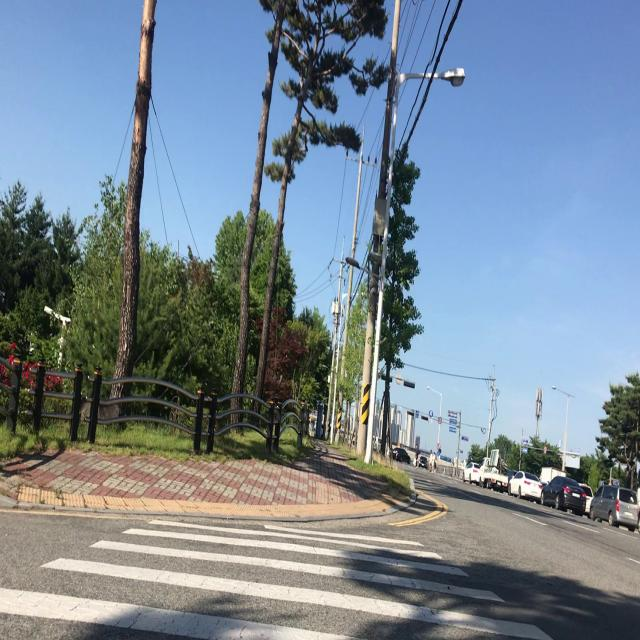횡단보도: (0, 517, 558, 640)
